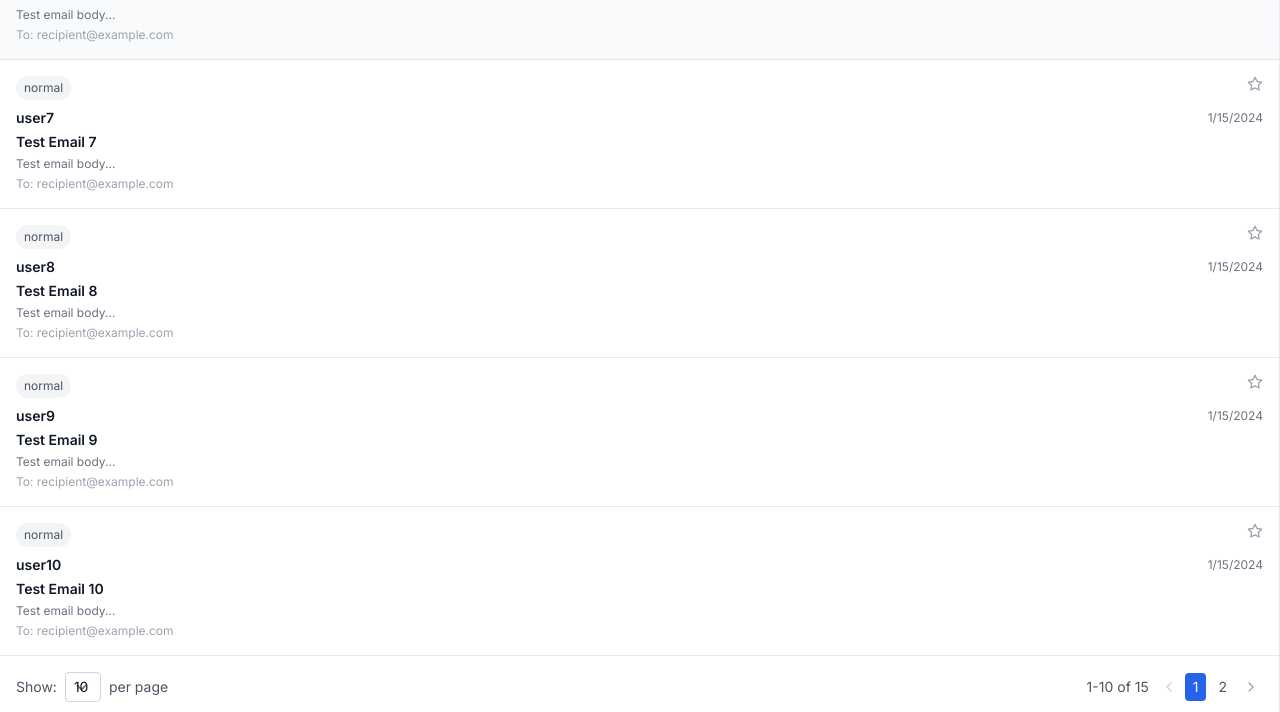
Test: EmailList › navigates to next page when next button is clicked
(page scrolled)
# Click next button
Click the button named "next": (1251, 687) [1239,675,1263,699]
(page scrolled)
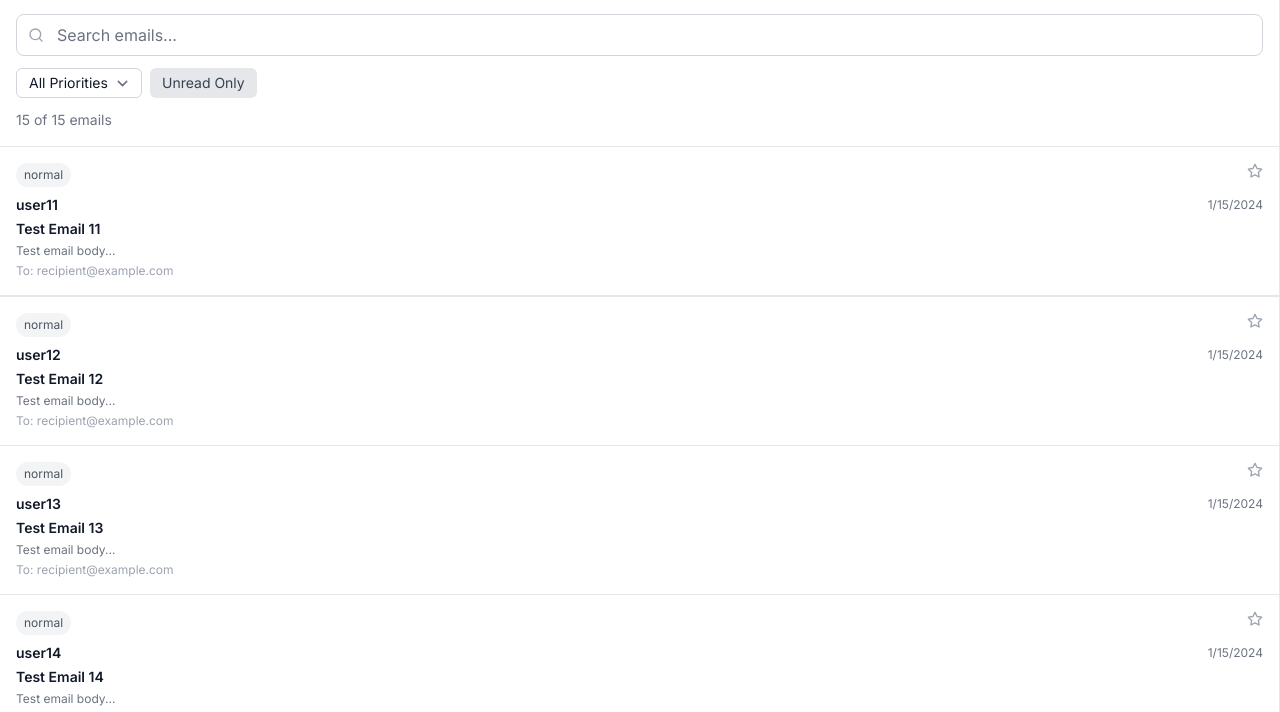
Expected: the heading "Test Email 11" is shown, [16,220,100,237]
